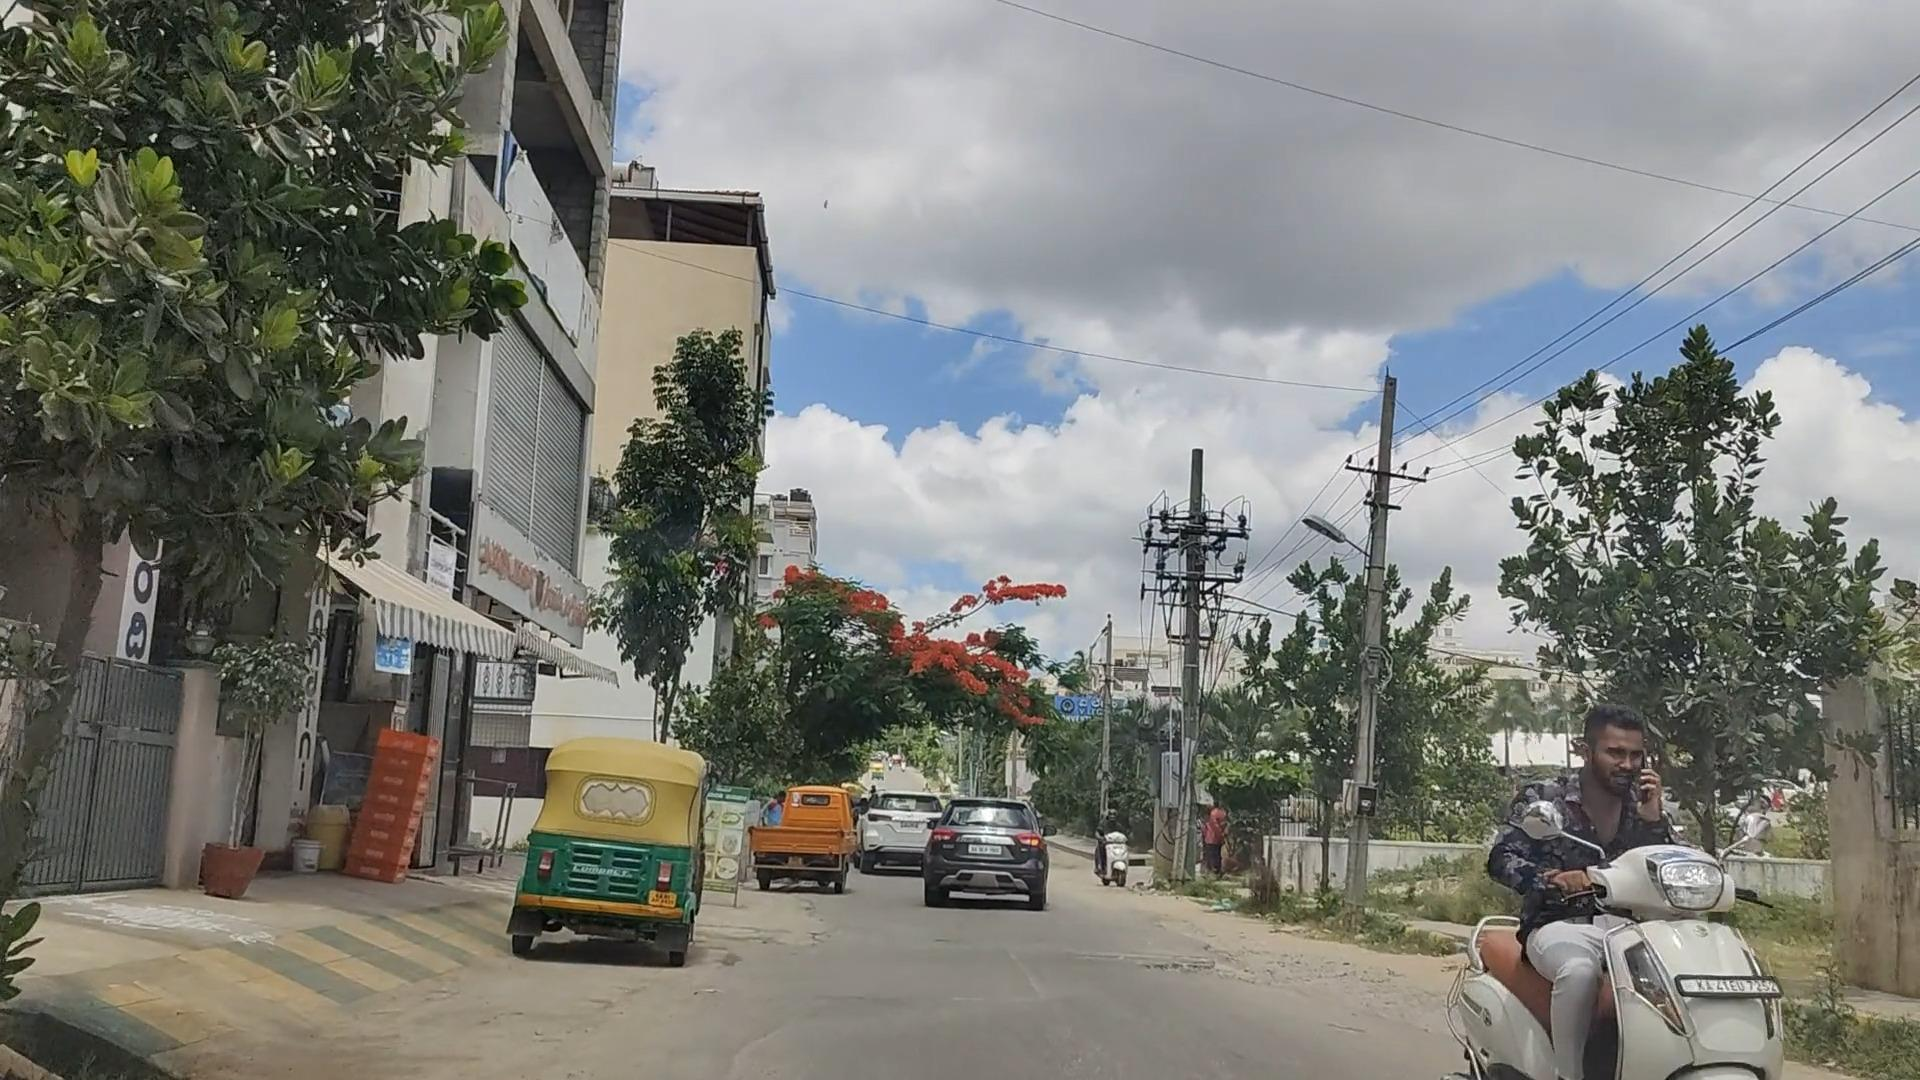RoadDamages: (669, 975, 852, 1073), (1087, 914, 1261, 993), (715, 897, 882, 965)
